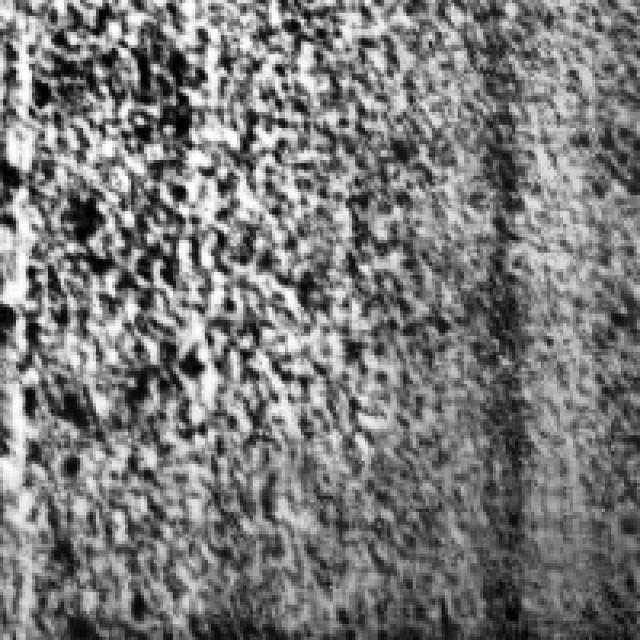Rolled_in_Scale: (6, 0, 438, 589)
